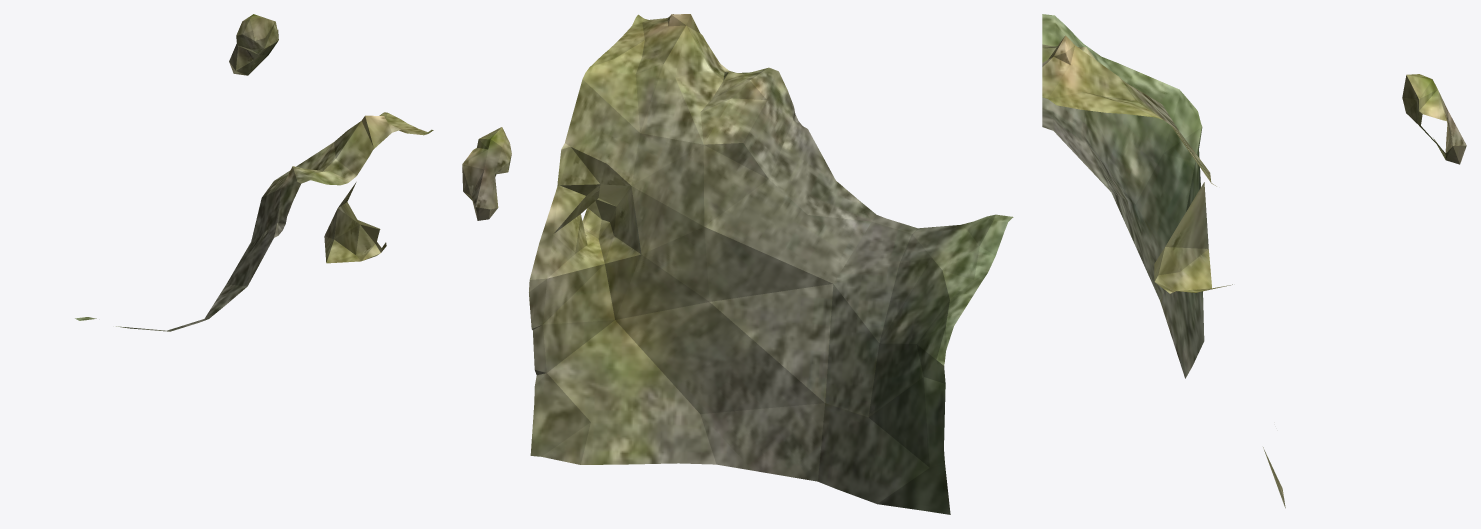
3 renders of one model, left to right at view 1: azimuth 30°, elevation 25°; view 2: azimuth 150°, elevation 25°; view 3: azimuth 270°, elevation 25°, orthographic. The views are drawn at different scales.
Bounding box in the file's own units: 2.95 × 2.9 × 2.51.
Materials: 3 (3 with a texture image).
